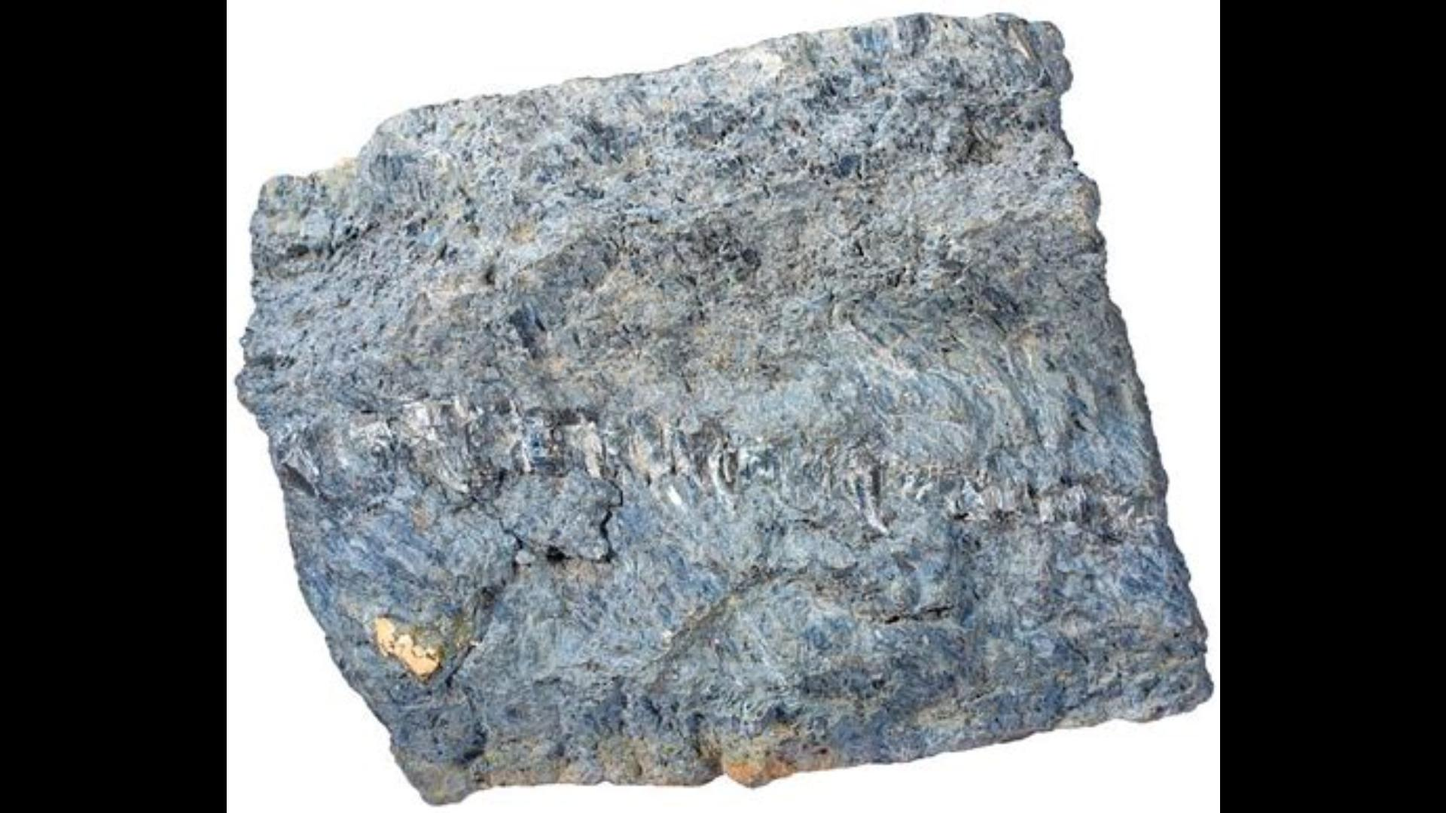rock: (239, 15, 1205, 798)
